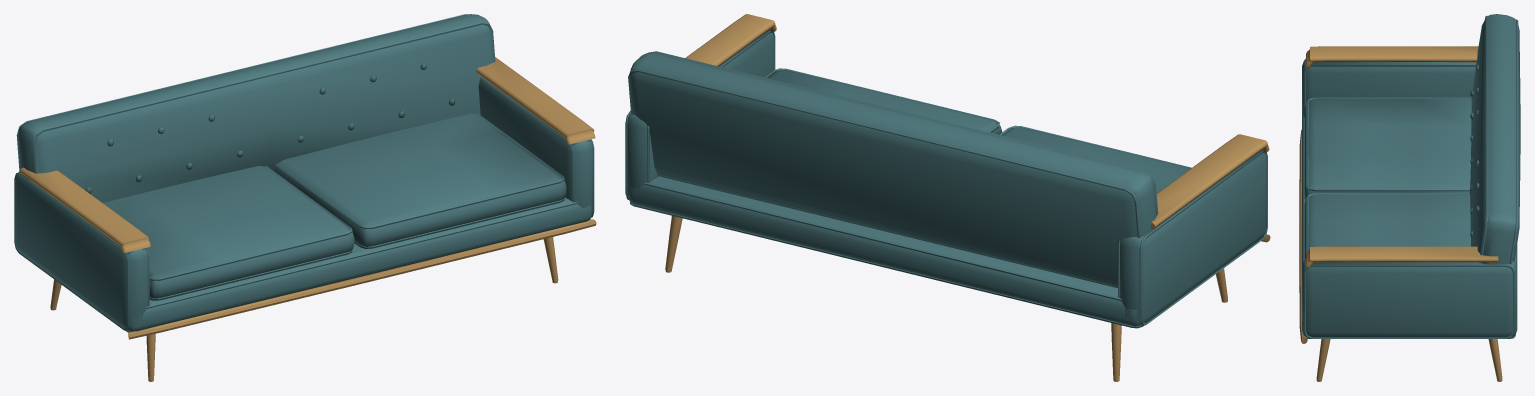
The model's file is sofaDesign.glb.
The picture shows the model from 3 angles, left to right: view 1: azimuth 30°, elevation 25°; view 2: azimuth 150°, elevation 25°; view 3: azimuth 270°, elevation 25°; orthographic projection. The views are drawn at different scales.
Visible parts, largest first — view 1: sofa, seat; view 2: sofa, seat; view 3: sofa, seat.
Part boxes in pixels (<box>): sofa: <box>14,14,596,381</box>; seat: <box>103,113,566,300</box>; sofa: <box>625,14,1270,381</box>; seat: <box>764,68,1191,193</box>; sofa: <box>1299,14,1520,381</box>; seat: <box>1304,97,1471,259</box>.
Size of the model in its own units: 1.87 by 0.7208 by 0.8233.
